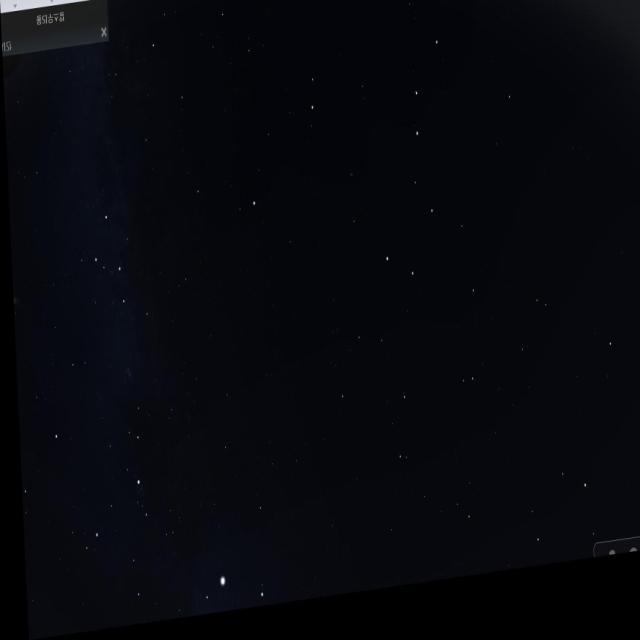cassiopeia: (86, 202, 157, 356)
ursa_major: (366, 38, 454, 307)
